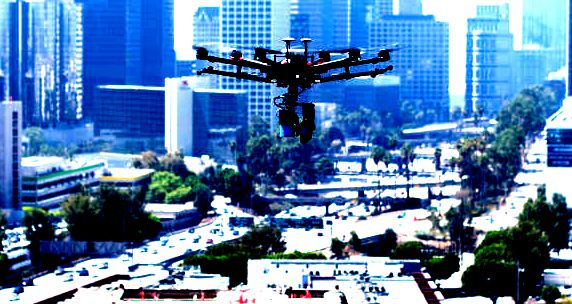Drone: (189, 34, 402, 146)
